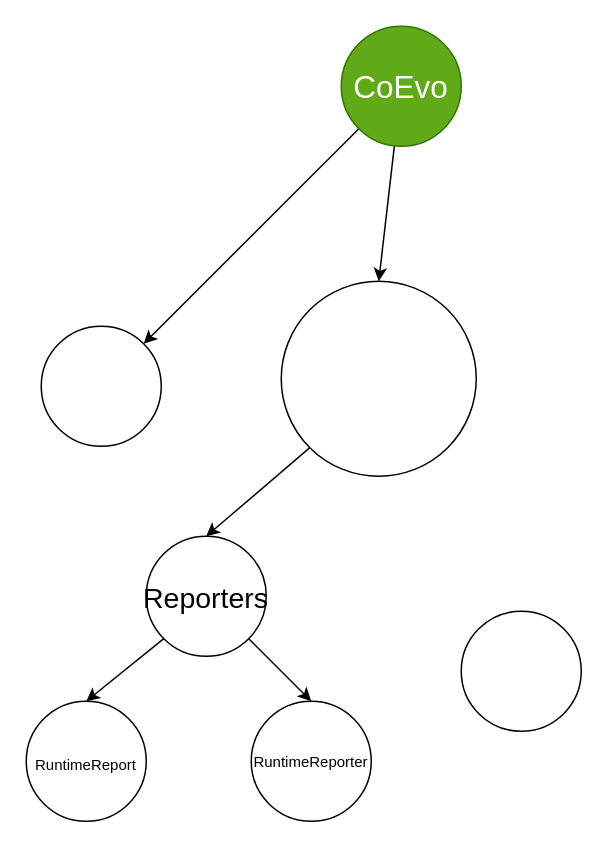
Image size: 608x848. Some labels were removed from this diagram. The shapes that lost their labels are listed below. From the top down, each one's box as (x1, y1, x2, y2) in pixels, then its label:
(40, 325, 161, 446): Utilities
(280, 280, 476, 476): Ecosystems
